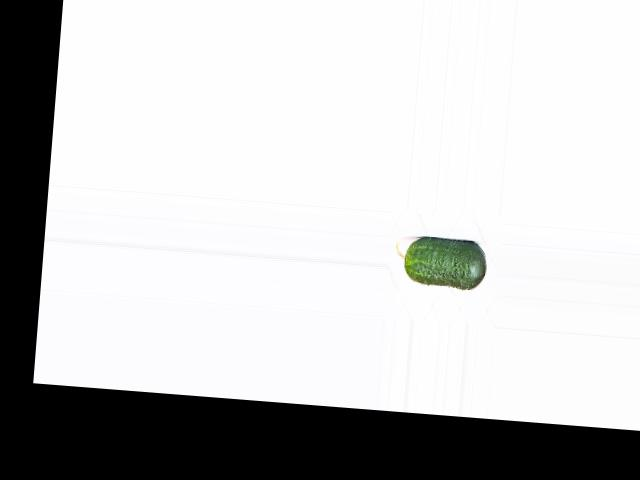cucumber: (393, 235, 488, 290)
